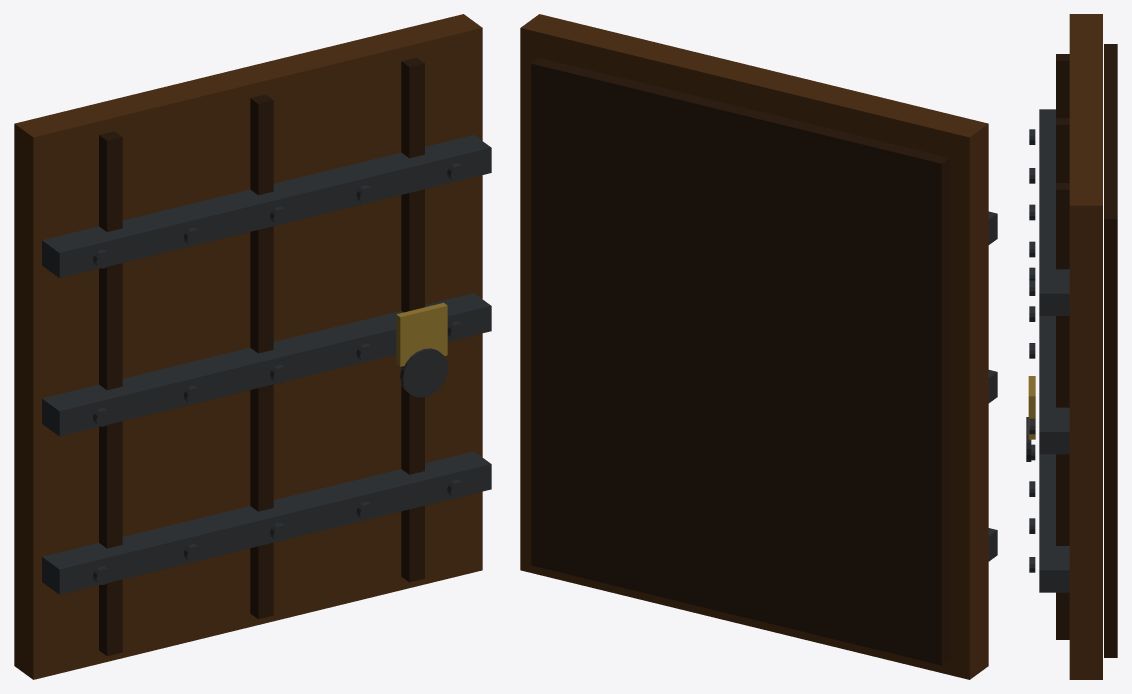
The model's file is castle_door.glb.
3 renders of one model, left to right at view 1: azimuth 30°, elevation 25°; view 2: azimuth 150°, elevation 25°; view 3: azimuth 270°, elevation 25°, orthographic. The views are drawn at different scales.
Visible parts, largest first — view 1: door_panel, door_iron_strap_1.25, door_iron_strap_4.75, door_iron_strap_3.0, door_vertical_plank_2.6, door_vertical_plank_0.85, door_vertical_plank_4.35, door_pull_ring_mount, door_pull_ring; view 2: door_backing, door_panel; view 3: door_panel, door_backing, door_vertical_plank_4.35, door_iron_strap_4.75, door_iron_strap_3.0, door_iron_strap_1.25, door_vertical_plank_0.85, door_vertical_plank_2.6, door_pull_ring_mount, door_pull_ring.
Part boxes in pixels (x1=…): door_panel: x1=14, y1=14, x2=482, y2=679; door_iron_strap_1.25: x1=42, y1=451, x2=491, y2=594; door_iron_strap_4.75: x1=42, y1=135, x2=491, y2=278; door_iron_strap_3.0: x1=42, y1=293, x2=491, y2=436; door_vertical_plank_2.6: x1=250, y1=94, x2=273, y2=619; door_vertical_plank_0.85: x1=99, y1=131, x2=122, y2=655; door_vertical_plank_4.35: x1=401, y1=57, x2=424, y2=582; door_pull_ring_mount: x1=396, y1=302, x2=447, y2=366; door_pull_ring: x1=400, y1=348, x2=447, y2=397; door_backing: x1=531, y1=58, x2=949, y2=665; door_panel: x1=520, y1=14, x2=988, y2=679; door_panel: x1=1069, y1=14, x2=1102, y2=679; door_backing: x1=1104, y1=44, x2=1117, y2=657; door_vertical_plank_4.35: x1=1056, y1=183, x2=1069, y2=639; door_iron_strap_4.75: x1=1039, y1=109, x2=1069, y2=315; door_iron_strap_3.0: x1=1039, y1=316, x2=1069, y2=454; door_iron_strap_1.25: x1=1039, y1=454, x2=1069, y2=592; door_vertical_plank_0.85: x1=1056, y1=54, x2=1069, y2=118; door_vertical_plank_2.6: x1=1056, y1=118, x2=1069, y2=182; door_pull_ring_mount: x1=1028, y1=376, x2=1035, y2=439; door_pull_ring: x1=1026, y1=417, x2=1031, y2=461.
Bounding box in the file's own units: 5.2 × 6 × 1.05.
